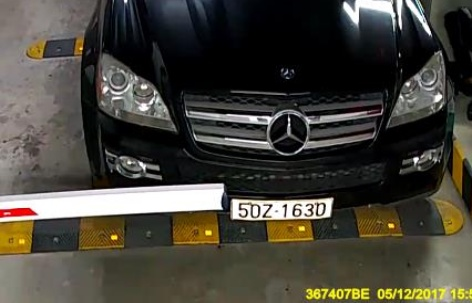plate: (225, 192, 339, 225)
